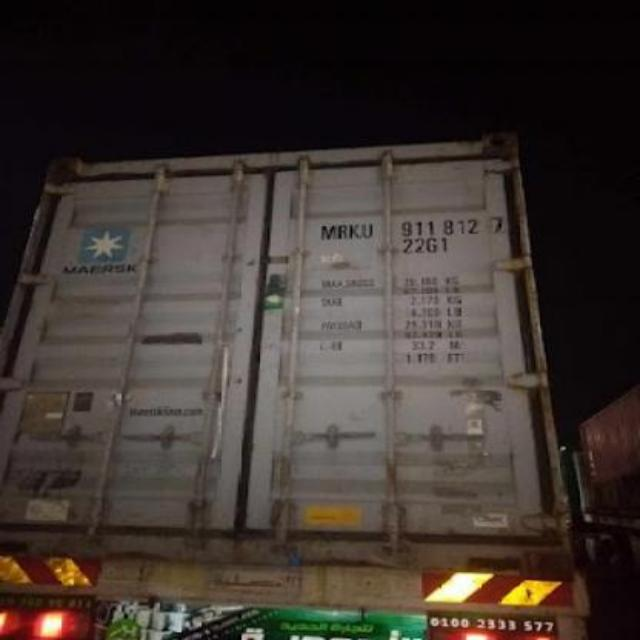1: (414, 219, 426, 235), (426, 220, 438, 236), (456, 218, 466, 234)
2: (466, 218, 482, 234)
7: (492, 216, 506, 232)
8: (442, 219, 454, 235)
9: (401, 220, 414, 236)
K: (348, 224, 362, 242)
M: (318, 225, 340, 241)
R: (336, 223, 348, 241)
U: (362, 224, 376, 240)
